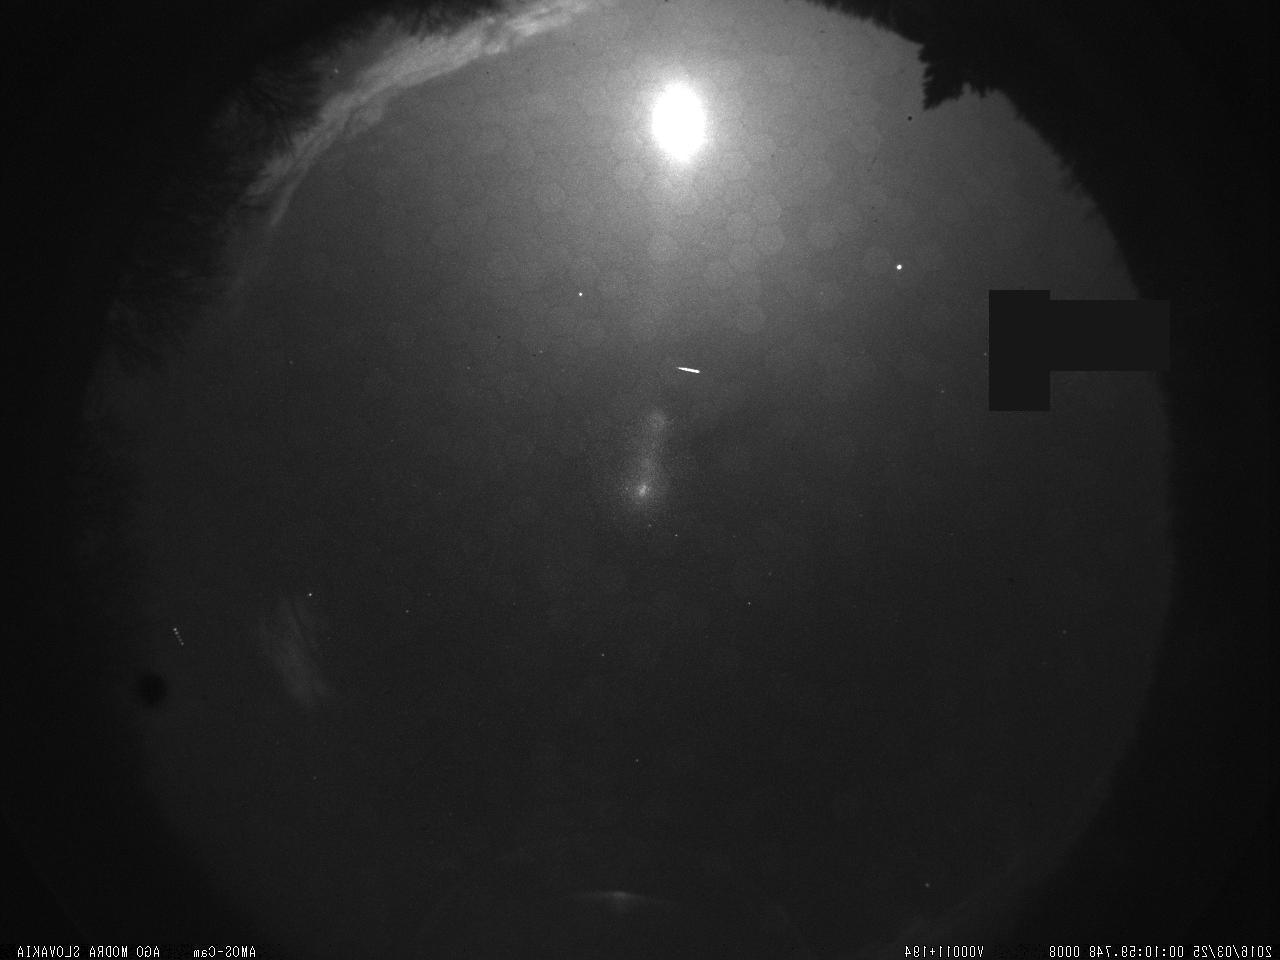meteor: (660, 347, 719, 390)
